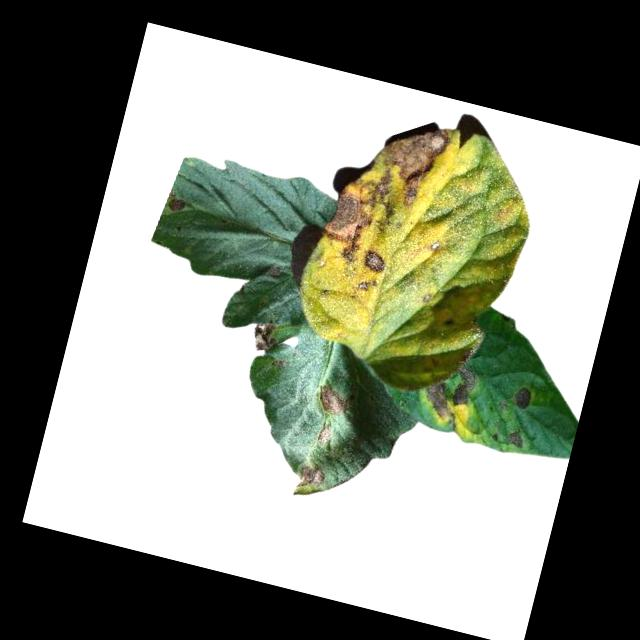Early_blight: (316, 157, 404, 271), (371, 116, 452, 213), (418, 357, 480, 428), (249, 319, 286, 356), (314, 384, 349, 418), (295, 465, 326, 492), (511, 385, 537, 415), (361, 249, 388, 274), (506, 428, 529, 449), (166, 195, 187, 215)
